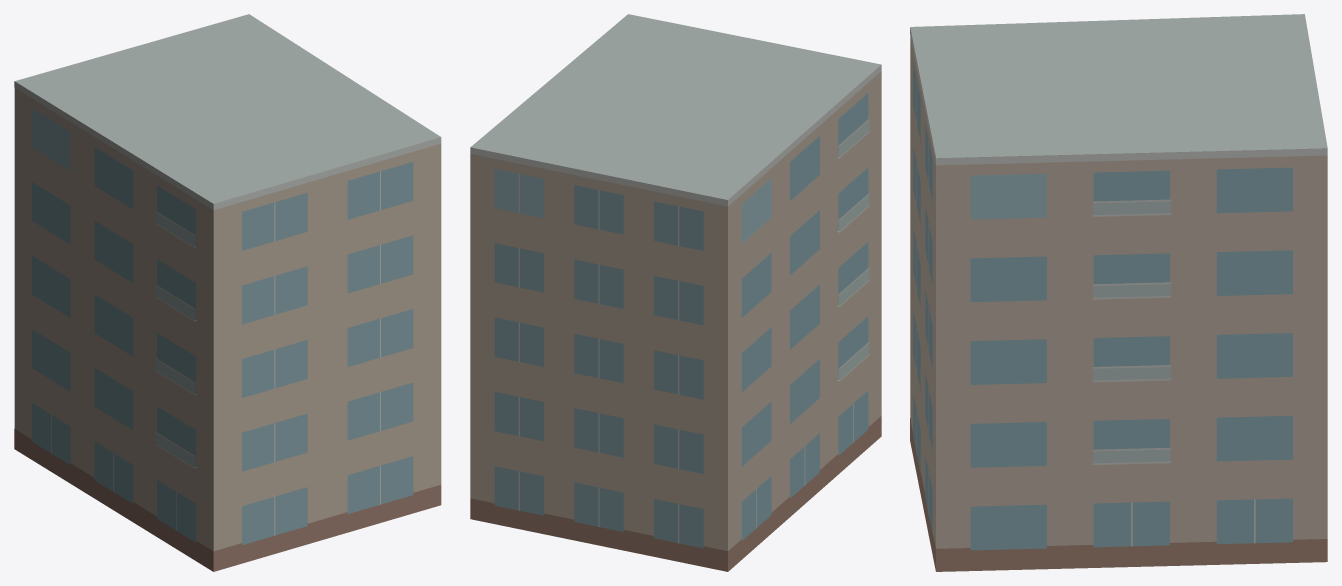
File: survey-upis-32737454.glb
3 renders of one model, left to right at view 1: azimuth 30°, elevation 25°; view 2: azimuth 150°, elevation 25°; view 3: azimuth 270°, elevation 25°, orthographic. The views are drawn at different scales.
Parts seen in each view (by area): view 1: survey-upis-32737454.tmp; view 2: survey-upis-32737454.tmp; view 3: survey-upis-32737454.tmp.
Part boxes in pixels (x1,y1,x2,y2): survey-upis-32737454.tmp: (14,14,441,571); survey-upis-32737454.tmp: (470,14,881,571); survey-upis-32737454.tmp: (910,14,1327,571).
Size of the model in its own units: 10.55 by 14.1 by 12.91.
